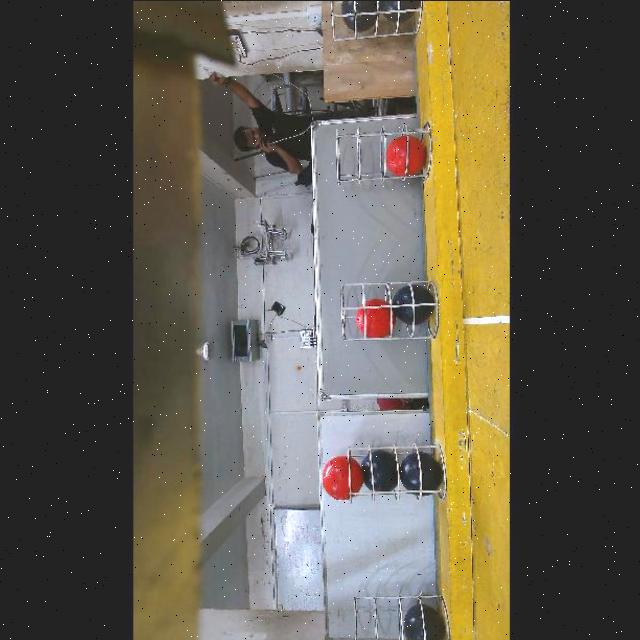P: (399, 453, 439, 494), (392, 284, 432, 324), (359, 449, 397, 491), (405, 604, 445, 640), (340, 0, 379, 30), (378, 0, 418, 21)
R: (321, 454, 362, 499), (385, 134, 426, 177), (355, 298, 389, 337)
S: (339, 275, 439, 339), (342, 440, 448, 496), (348, 590, 448, 640)
